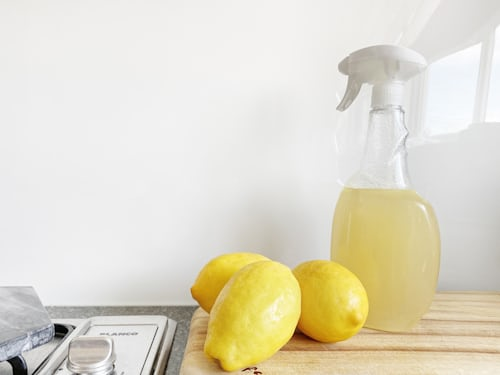Spray: (325, 47, 446, 325)
